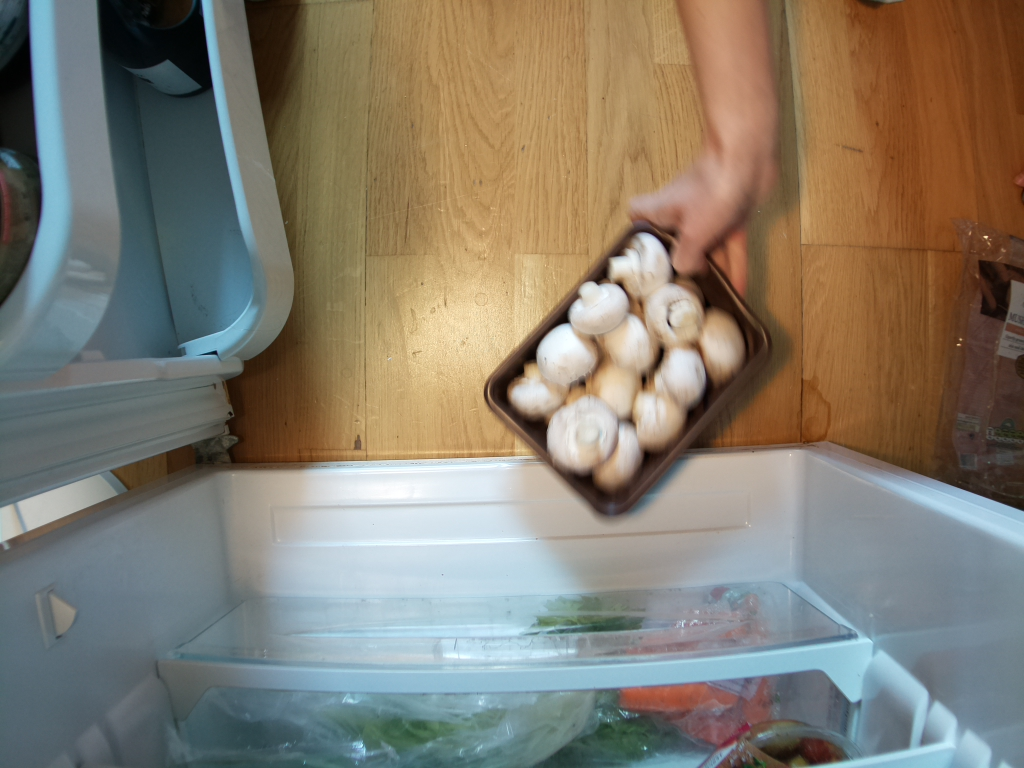mushrooms: (478, 202, 771, 530)
